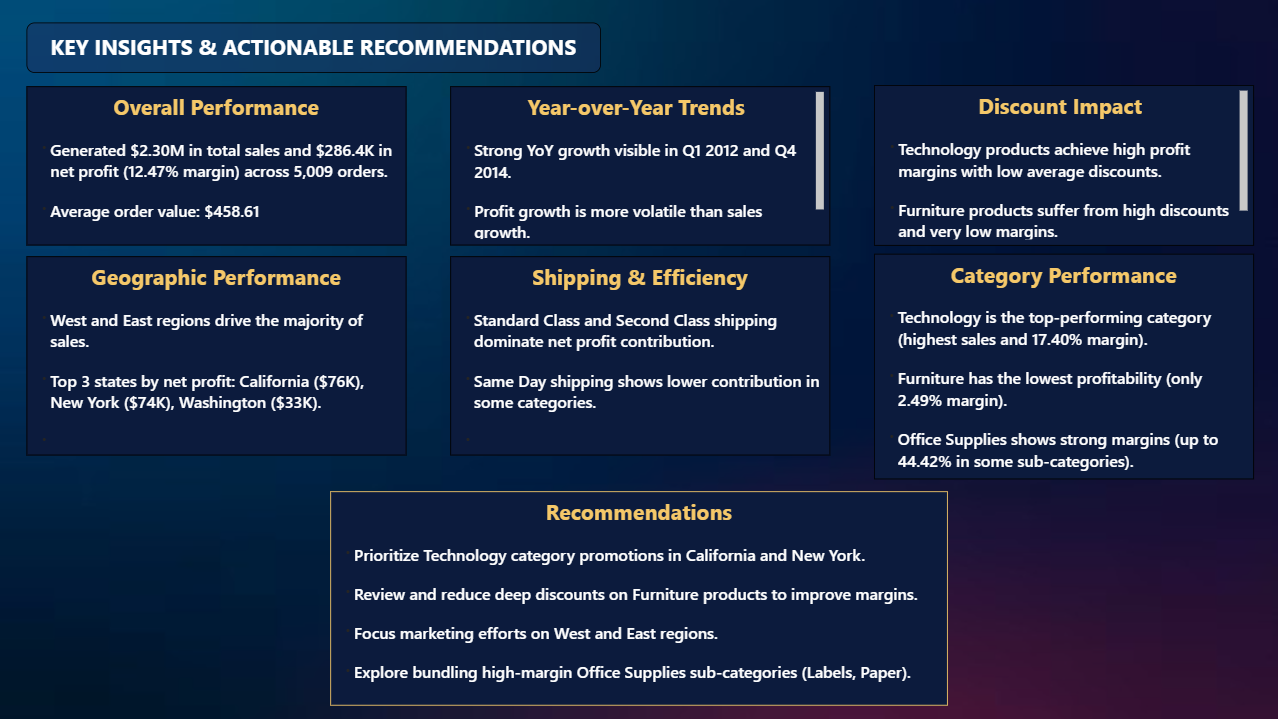

The dashboard page shown, as its layout file describes it:
{"tool":"powerbi","page":{"name":"Insights & Recommendations","canvas":[1280,720],"ordinal":2},"visuals":[{"type":"textbox","box":[27.7,22.9,574.3,50.7],"z":0},{"type":"textbox","title":"Overall Performance","box":[27.7,85.7,380,159.3],"z":1000},{"type":"textbox","box":[874.7,253.4,380,225.6],"z":2000},{"type":"textbox","box":[27.7,255.8,380,199.1],"z":3000},{"type":"textbox","box":[874.7,84.5,380,160.5],"z":4000},{"type":"textbox","box":[451.2,255.8,380,199.1],"z":5000},{"type":"textbox","box":[451.2,85.7,380,159.3],"z":6000},{"type":"textbox","box":[331.8,491,617.7,214.7],"z":7000}]}

Visuals, with their boxes in screenshot pixels (x1, y1, x2, y2), scaled from the page's 1280x720 canvas onto the 1278x719 screenshot:
textbox: <region>28, 23, 601, 73</region>
"Overall Performance" textbox: <region>28, 86, 407, 245</region>
textbox: <region>873, 253, 1253, 478</region>
textbox: <region>28, 255, 407, 454</region>
textbox: <region>873, 84, 1253, 245</region>
textbox: <region>450, 255, 830, 454</region>
textbox: <region>450, 86, 830, 245</region>
textbox: <region>331, 490, 948, 705</region>
